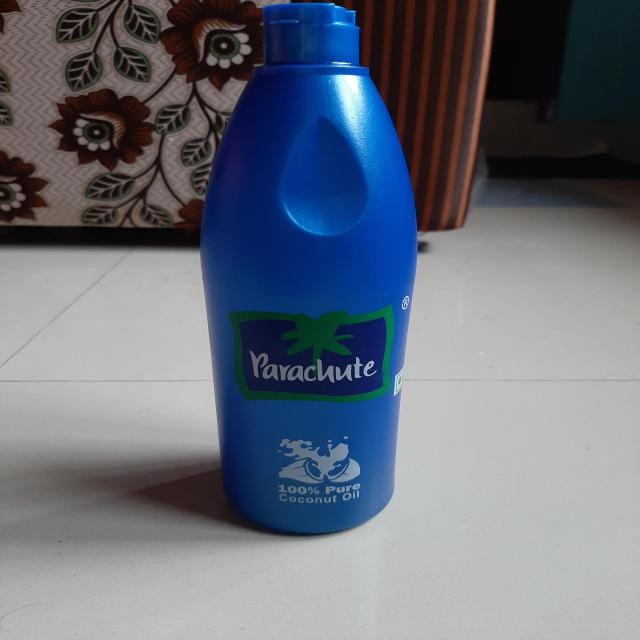parachute_oil: (193, 5, 412, 542)
